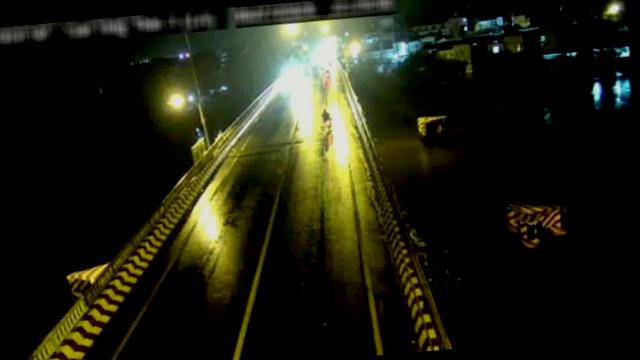Bike: (321, 107, 334, 133)
